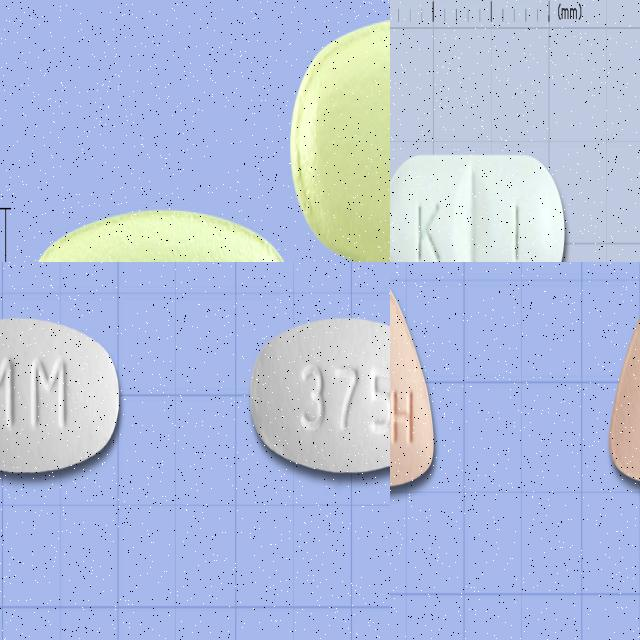Amocla: (390, 146, 570, 262)
Amoclan - Myungmoon: (247, 310, 390, 477), (0, 314, 122, 477)
Baracle: (390, 274, 440, 496), (606, 274, 640, 494)
Clafacin -500mg: (284, 8, 390, 262), (14, 201, 306, 262)
